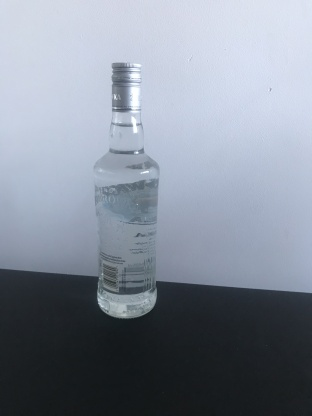nakretka: (110, 59, 143, 114)
